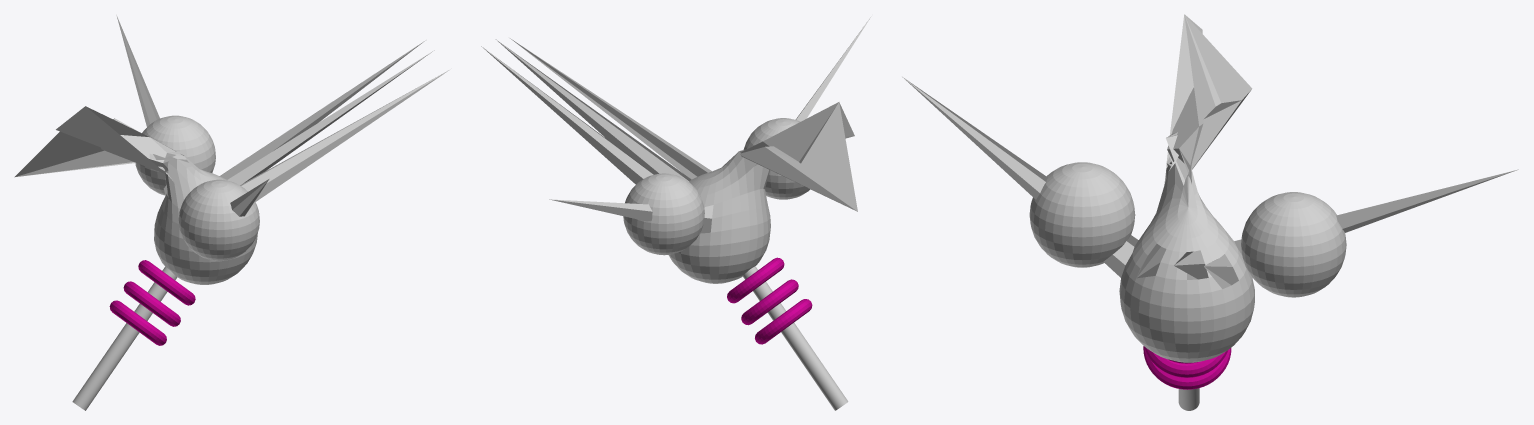
The model's file is angry_spear.obj.
The picture shows the model from 3 angles, left to right: view 1: azimuth 30°, elevation 25°; view 2: azimuth 150°, elevation 25°; view 3: azimuth 270°, elevation 25°; orthographic projection. The views are drawn at different scales.
Parts seen in each view (by area): view 1: 球体, 球体.001, 球体.002, 柱体.001, 环体.001, 环体.002, 环体; view 2: 球体, 球体.002, 柱体.001, 球体.001, 环体.001, 环体, 环体.002; view 3: 球体, 球体.002, 球体.001, 环体, 环体.001.
Part boxes in pixels (<box>): 球体: <box>14,15,449,284</box>; 球体.001: <box>178,179,259,260</box>; 球体.002: <box>135,115,215,195</box>; 柱体.001: <box>72,266,177,410</box>; 环体.001: <box>123,281,180,326</box>; 环体.002: <box>138,260,195,305</box>; 环体: <box>109,300,166,345</box>; 球体: <box>481,16,871,283</box>; 球体.002: <box>623,173,704,255</box>; 柱体.001: <box>742,266,848,410</box>; 球体.001: <box>743,118,809,199</box>; 环体.001: <box>741,279,798,325</box>; 环体: <box>755,299,812,344</box>; 环体.002: <box>727,257,784,303</box>; 球体: <box>902,14,1518,362</box>; 球体.002: <box>1241,192,1346,297</box>; 球体.001: <box>1029,162,1135,267</box>; 环体: <box>1143,346,1231,389</box>; 环体.001: <box>1144,346,1228,377</box>.
Size of the model in its own units: 16.79 by 12.41 by 17.55.
